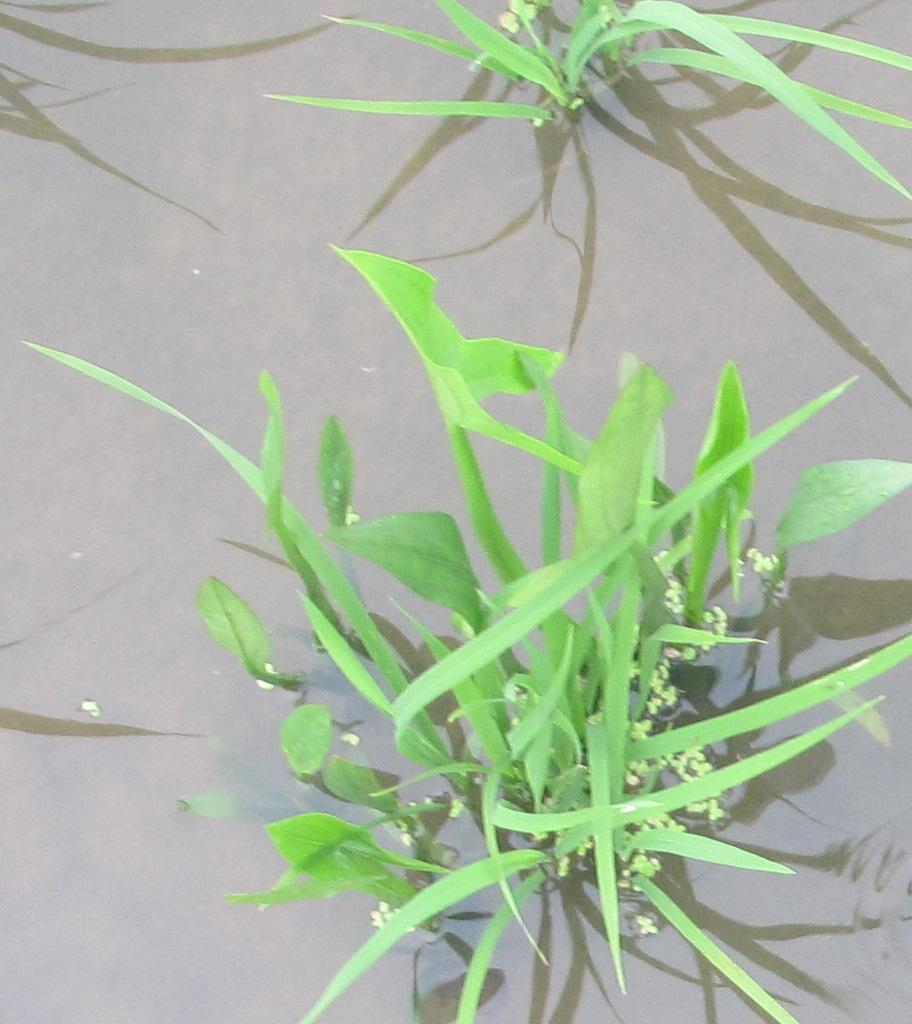Weed: (199, 578, 391, 903), (316, 233, 567, 447)
